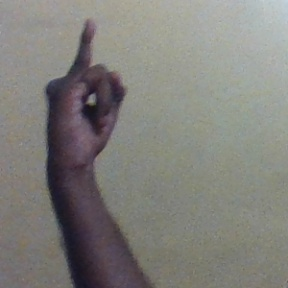I: (42, 16, 130, 167)
